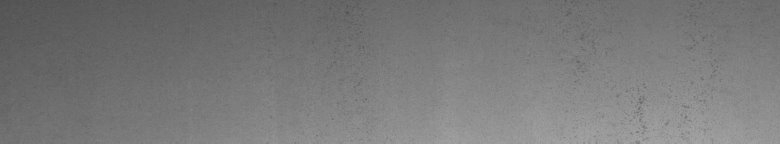ib: (561, 8, 689, 134)
